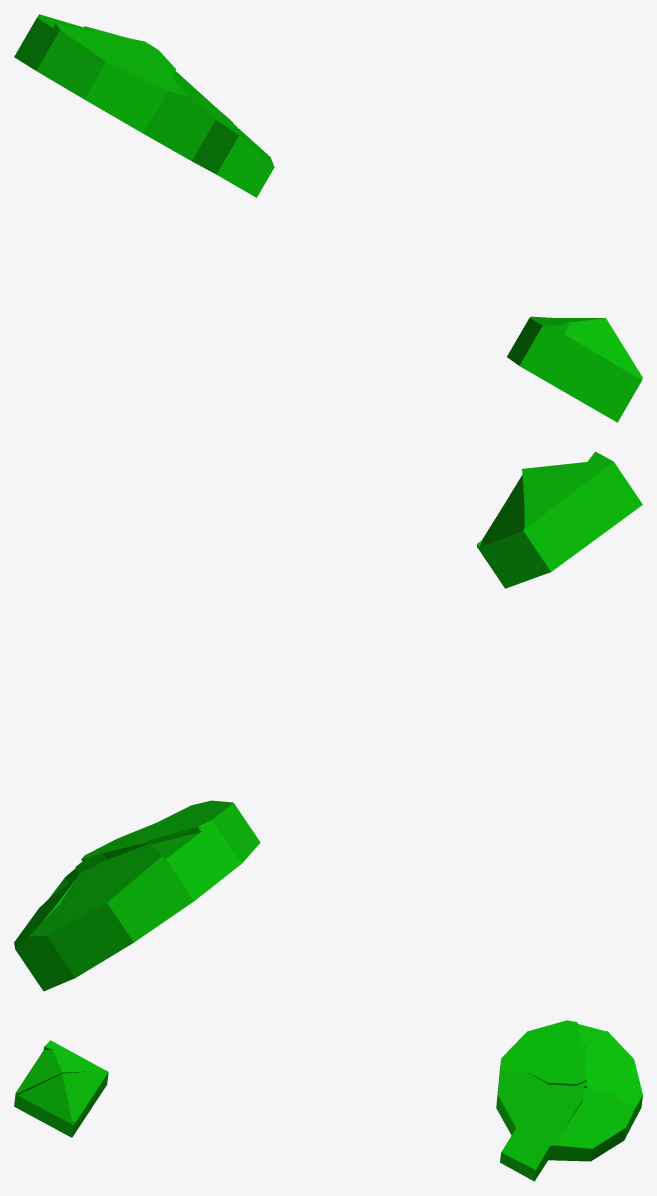
3 views of the same model, one above another, from view 1: azimuth 30°, elevation 25°; view 2: azimuth 150°, elevation 25°; view 3: azimuth 270°, elevation 25° (orthographic). The views are drawn at different scales.
Parts seen in each view (by area): view 1: mesh; view 2: mesh; view 3: mesh.
Boxes of the visible parts, x1,y1,x2,y2 form: mesh: (14,14,642,422); mesh: (14,451,642,991); mesh: (14,1020,642,1181).
Bounding box in the file's own units: 16.96 × 14.14 × 71.66.
